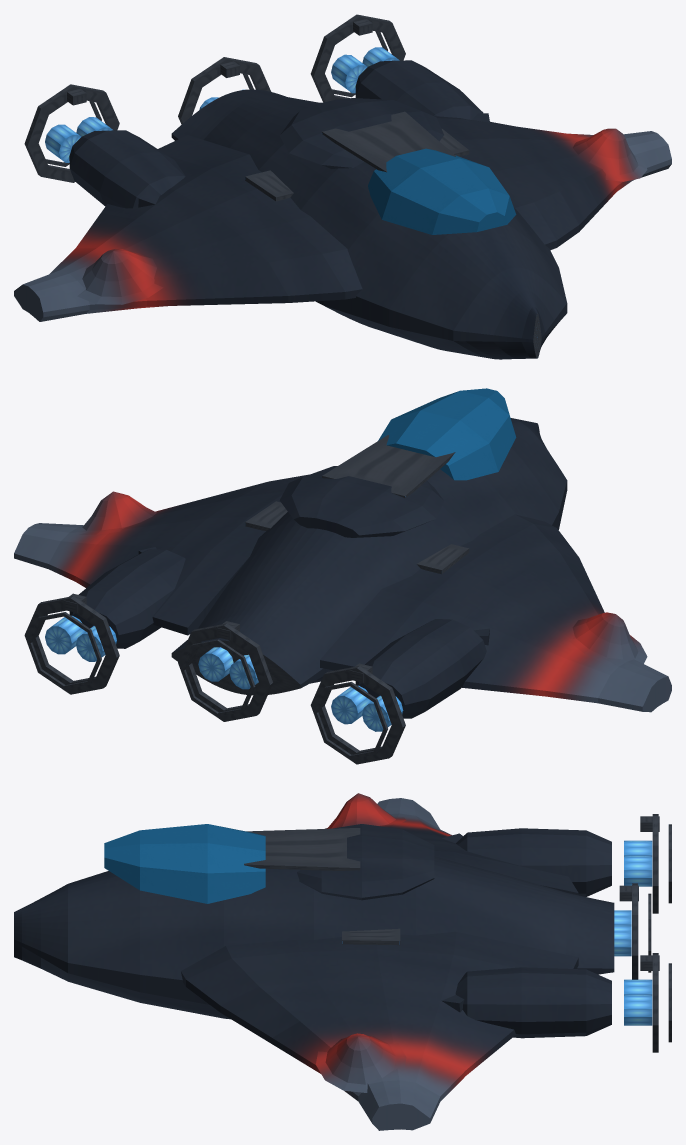
The model's file is spaceship_elite.obj.
3 views of the same model, one above another, from view 1: azimuth 30°, elevation 25°; view 2: azimuth 150°, elevation 25°; view 3: azimuth 270°, elevation 25° (orthographic).
Visible parts, largest first — view 1: spaceship_elite; view 2: spaceship_elite; view 3: spaceship_elite.
Part boxes in pixels (x1,y1,x2,y2): spaceship_elite: [14, 14, 671, 359]; spaceship_elite: [14, 388, 671, 764]; spaceship_elite: [14, 793, 671, 1130].
Bounding box in the file's own units: 5.6 × 1.55 × 5.1.
Materials: 1 (1 with a texture image).
